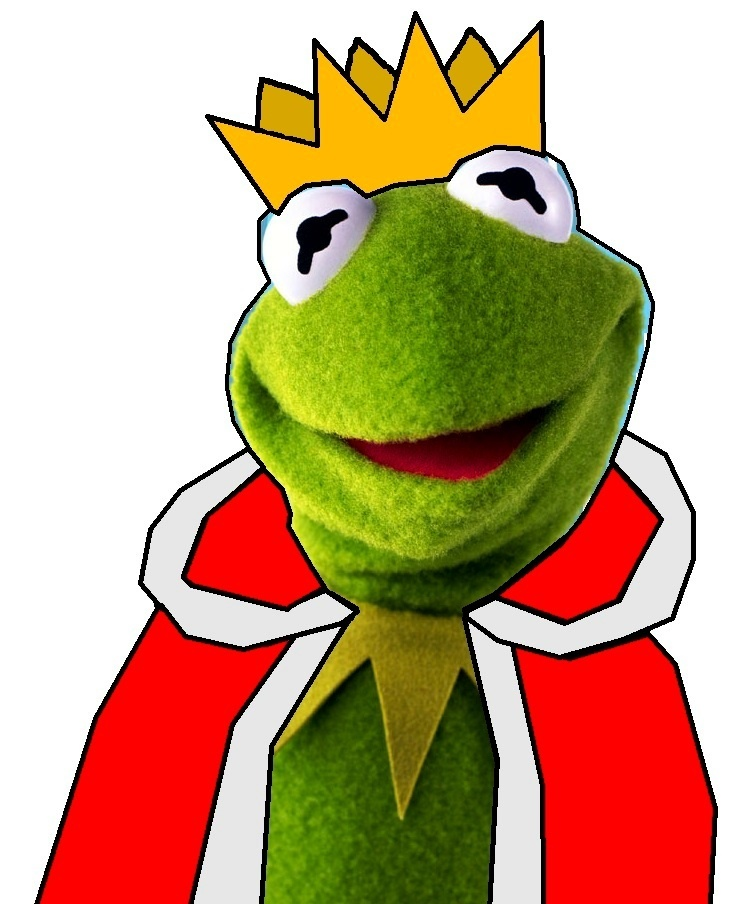kermit: (242, 140, 632, 556)
